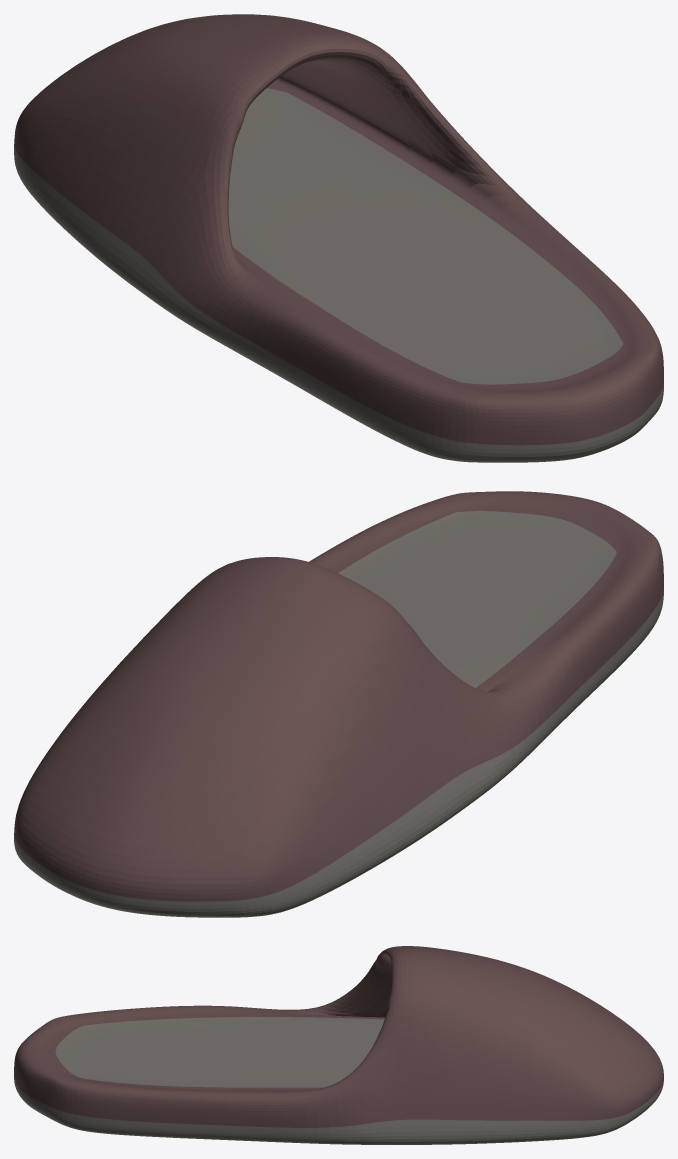
File: Slipper.fbx
3 views of the same model, one above another, from view 1: azimuth 30°, elevation 25°; view 2: azimuth 150°, elevation 25°; view 3: azimuth 270°, elevation 25° (orthographic). The views are drawn at different scales.
Parts seen in each view (by area): view 1: Cube; view 2: Cube; view 3: Cube.
Boxes of the visible parts, box(x1,y1,x2,y2) form: Cube: box(14, 14, 663, 462); Cube: box(14, 491, 663, 917); Cube: box(14, 946, 663, 1144).
Size of the model in its own units: 91.62 by 56.38 by 233.
